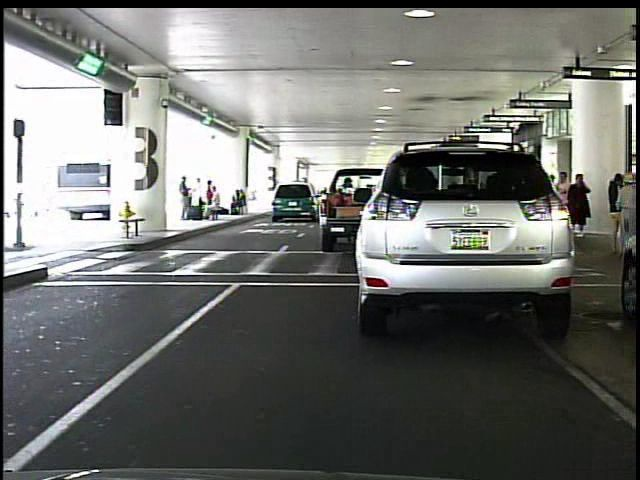person: (613, 171, 640, 259), (567, 169, 592, 239), (606, 166, 624, 257), (555, 169, 573, 236), (173, 172, 193, 224)
